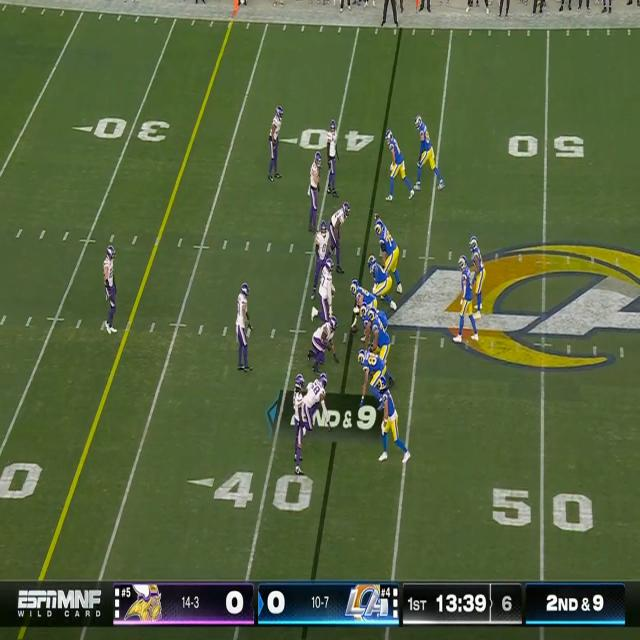Player: (378, 375, 401, 461), (414, 112, 436, 191), (235, 280, 252, 373), (385, 128, 407, 199), (454, 254, 472, 340), (311, 316, 339, 370), (103, 243, 118, 335), (306, 373, 332, 426), (292, 376, 306, 474), (328, 201, 349, 266), (306, 150, 322, 234), (470, 235, 486, 317), (268, 102, 283, 180), (375, 218, 400, 263), (319, 256, 336, 321), (358, 351, 386, 389), (369, 308, 390, 358), (326, 120, 339, 200), (368, 255, 392, 294), (315, 220, 329, 269), (351, 278, 376, 304), (360, 304, 370, 334)
